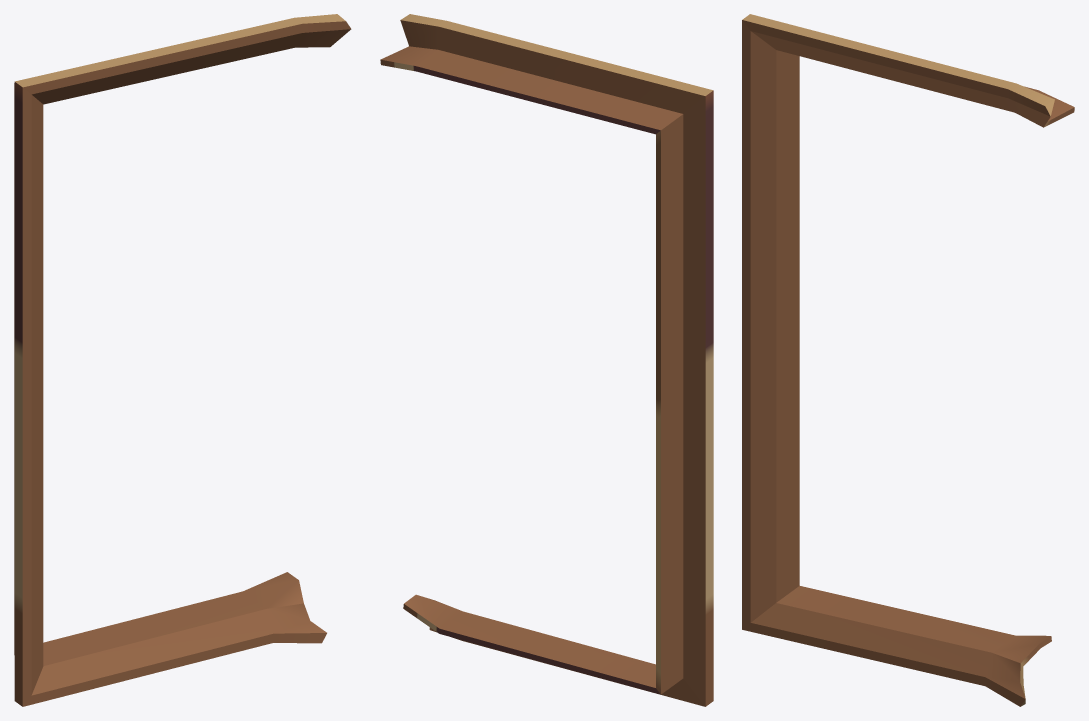
The model's file is DBK_WinBig_Trim_C_Side.fbx.
3 renders of one model, left to right at view 1: azimuth 30°, elevation 25°; view 2: azimuth 150°, elevation 25°; view 3: azimuth 330°, elevation 25°, orthographic.
Visible parts, largest first — view 1: DBK_WinBig_Trim_C_Side; view 2: DBK_WinBig_Trim_C_Side; view 3: DBK_WinBig_Trim_C_Side.
Boxes of the visible parts, x1,y1,x2,y2 form: DBK_WinBig_Trim_C_Side: [14, 14, 351, 706]; DBK_WinBig_Trim_C_Side: [380, 14, 713, 706]; DBK_WinBig_Trim_C_Side: [742, 14, 1074, 706].
Bounding box in the file's own units: 125 × 231 × 26.35.
